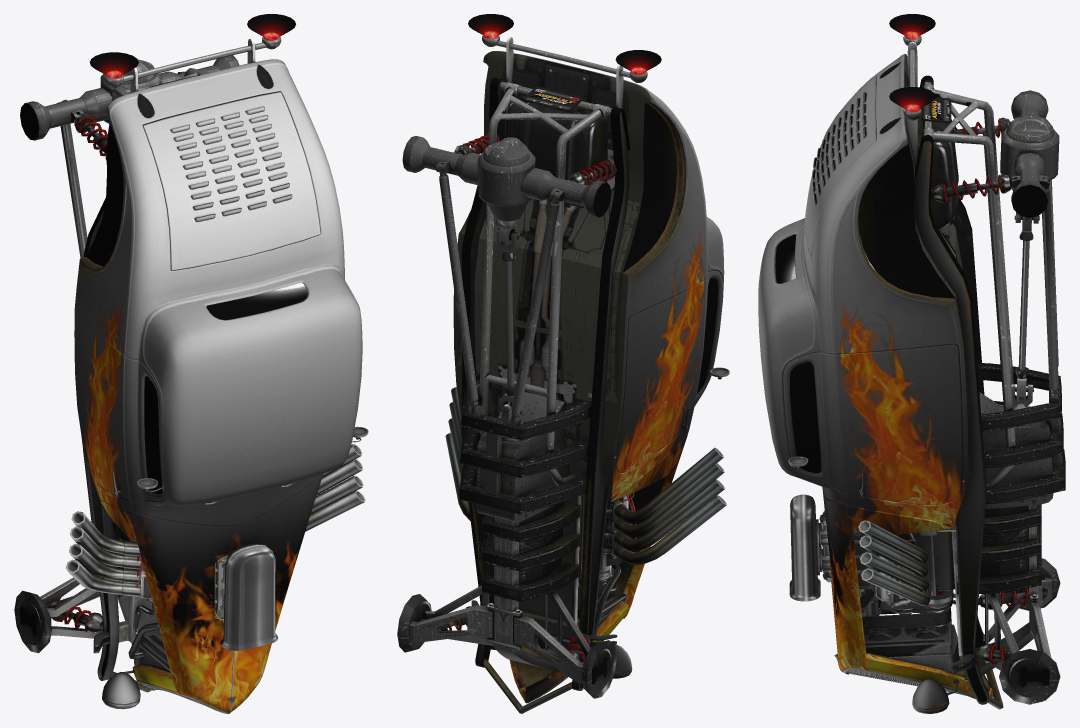
File: Car.obj
3 views of the same model, side by side, from view 1: azimuth 30°, elevation 25°; view 2: azimuth 150°, elevation 25°; view 3: azimuth 270°, elevation 25° (orthographic). The views are drawn at different scales.
Parts seen in each view (by area): view 1: chassis_carpaint, detach_trunk_75_carpaint, chassis_details, detach_door_R_40_carpaint, skinned_mesh_details, glasses_glass, lights_brakes_glows, detach_bumper_R_carpaint; view 2: chassis_carpaint, chassis_details, chassis_bottom, skinned_mesh_details, detach_door_R_40_carpaint, detach_bumper_R_carpaint, lights_brakes_glows, glasses_glass, chassis_license; view 3: chassis_carpaint, chassis_details, detach_door_L_40_carpaint, skinned_mesh_details, detach_trunk_75_carpaint, glasses_glass, lights_brakes_glows, chassis_bottom, detach_bumper_R_carpaint, chassis_license.
Part boxes in pixels (x1,y1,x2,y2): chassis_carpaint: [74, 59, 362, 713]; detach_trunk_75_carpaint: [143, 91, 320, 270]; chassis_details: [66, 157, 365, 705]; detach_door_R_40_carpaint: [76, 303, 165, 500]; skinned_mesh_details: [14, 55, 239, 653]; glasses_glass: [144, 282, 307, 493]; lights_brakes_glows: [89, 14, 295, 77]; detach_bumper_R_carpaint: [104, 36, 281, 92]; chassis_carpaint: [459, 51, 724, 713]; chassis_details: [445, 81, 726, 670]; chassis_bottom: [453, 51, 650, 501]; skinned_mesh_details: [397, 134, 616, 698]; detach_door_R_40_carpaint: [616, 270, 729, 472]; detach_bumper_R_carpaint: [482, 35, 647, 112]; lights_brakes_glows: [468, 14, 661, 73]; glasses_glass: [697, 278, 718, 393]; chassis_license: [523, 86, 582, 111]; chassis_carpaint: [758, 54, 1016, 713]; chassis_details: [789, 81, 1065, 695]; detach_door_L_40_carpaint: [782, 344, 962, 504]; skinned_mesh_details: [943, 90, 1060, 704]; detach_trunk_75_carpaint: [805, 77, 876, 255]; glasses_glass: [775, 234, 821, 473]; lights_brakes_glows: [889, 14, 935, 110]; chassis_bottom: [904, 54, 967, 439]; detach_bumper_R_carpaint: [903, 35, 921, 170]; chassis_license: [921, 97, 951, 123].
Bounding box in the file's own units: 1.89 × 4.15 × 1.78.
Materials: 5 (5 with a texture image).
